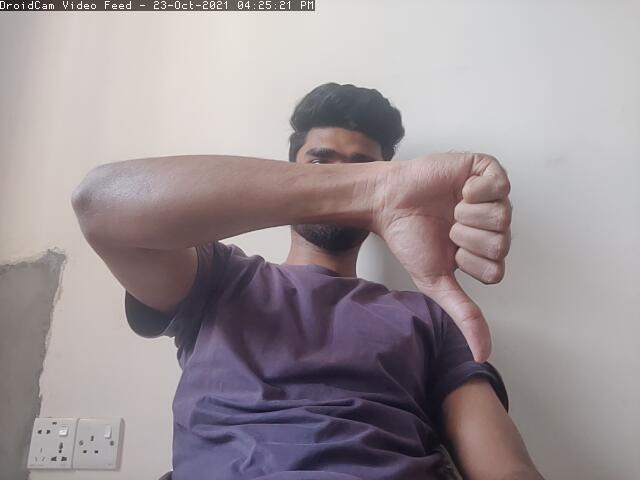ThumbsDown: (390, 144, 530, 364)
